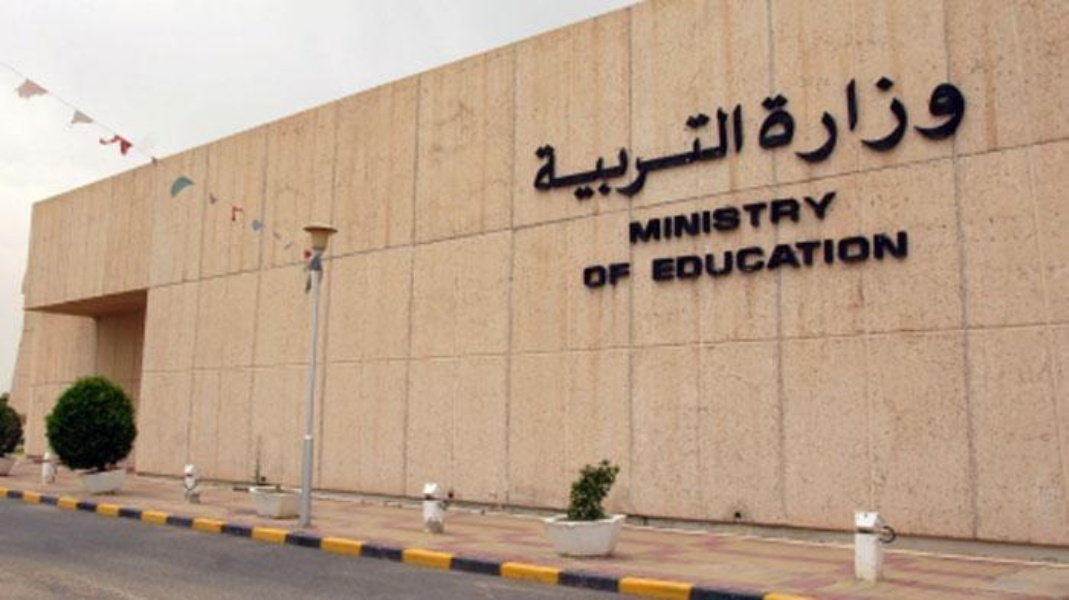text: (529, 100, 544, 214), (545, 100, 560, 214), (561, 100, 576, 214), (577, 100, 592, 214), (593, 100, 608, 214), (609, 100, 624, 214), (625, 100, 640, 214), (641, 100, 656, 214), (657, 100, 672, 214), (673, 100, 688, 214), (689, 100, 704, 214), (705, 100, 720, 214), (721, 100, 736, 214), (769, 72, 784, 173), (785, 72, 800, 173), (801, 72, 816, 173), (817, 72, 832, 173), (833, 72, 848, 173), (849, 72, 864, 173), (865, 72, 880, 173), (881, 72, 896, 173), (897, 72, 912, 173), (913, 72, 928, 173), (929, 72, 944, 173), (945, 72, 960, 173), (961, 72, 973, 173), (737, 100, 747, 214), (625, 188, 640, 249), (641, 188, 656, 249), (657, 188, 672, 249), (673, 188, 688, 249), (689, 188, 704, 249), (705, 188, 720, 249), (721, 188, 736, 249), (737, 188, 752, 249), (753, 188, 768, 249), (769, 188, 784, 249), (785, 188, 800, 249), (801, 188, 816, 249), (817, 188, 832, 249), (759, 72, 768, 173), (657, 226, 672, 284), (673, 226, 688, 284), (689, 226, 704, 284), (705, 226, 720, 284), (721, 226, 736, 284), (737, 226, 752, 284), (753, 226, 768, 284), (769, 226, 784, 284), (785, 226, 800, 284), (801, 226, 816, 284), (817, 226, 832, 284), (833, 226, 848, 284), (849, 226, 864, 284), (865, 226, 880, 284), (881, 226, 896, 284), (897, 226, 911, 284), (833, 188, 842, 249), (593, 259, 608, 288), (609, 259, 624, 288), (581, 259, 592, 288), (651, 226, 656, 284), (625, 259, 634, 288), (527, 100, 528, 214)
